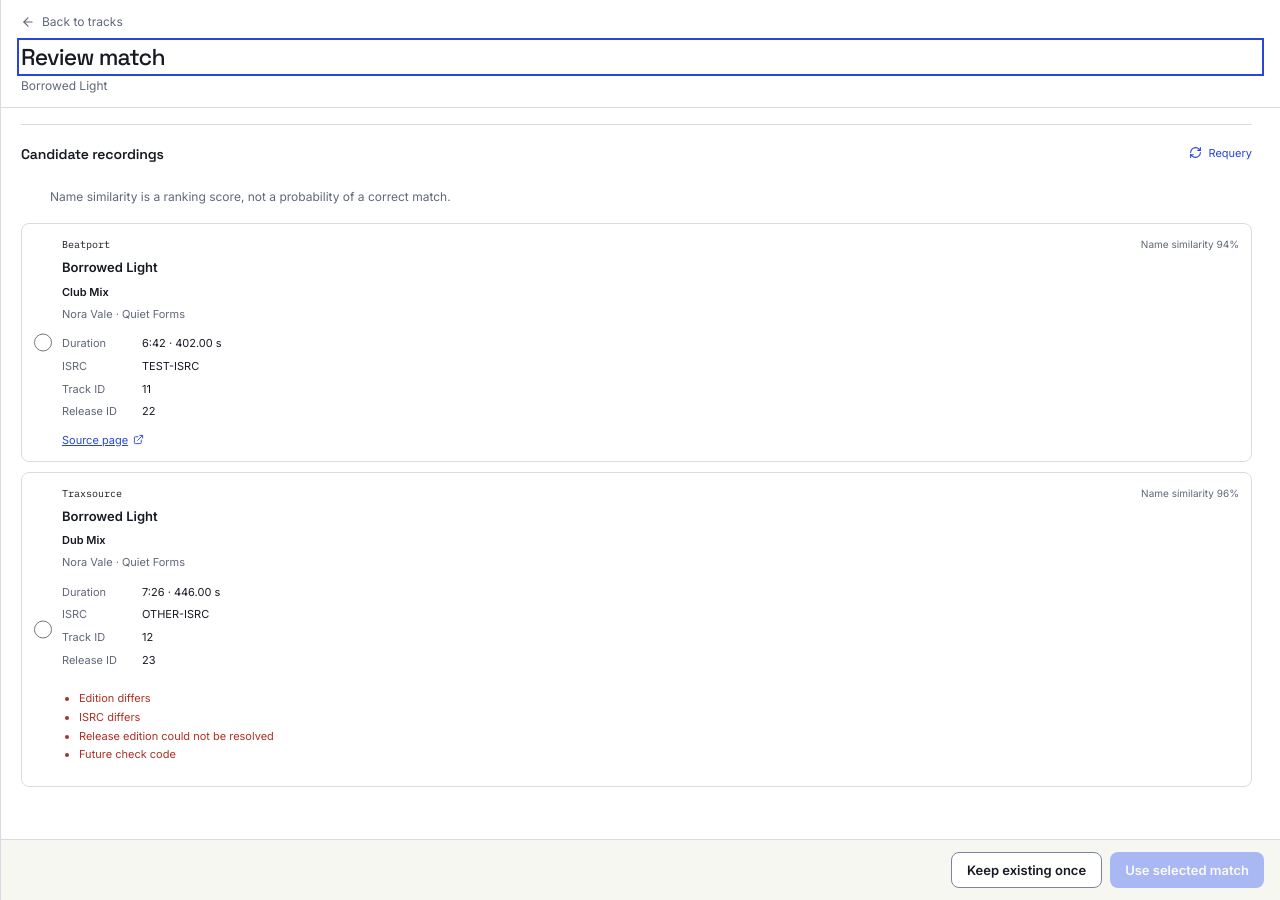
Scenario: match review evidence and decisions › shows conflicts and providers in plain words, with a readable fallback for codes it does not know
The image size is (1280, 900).
(page scrolled)
Step 1. Click the radio button with aria-label "Traxsource · Borrowed Light · Dub Mix" → (43,629), box [34,489,52,770]
(page scrolled)
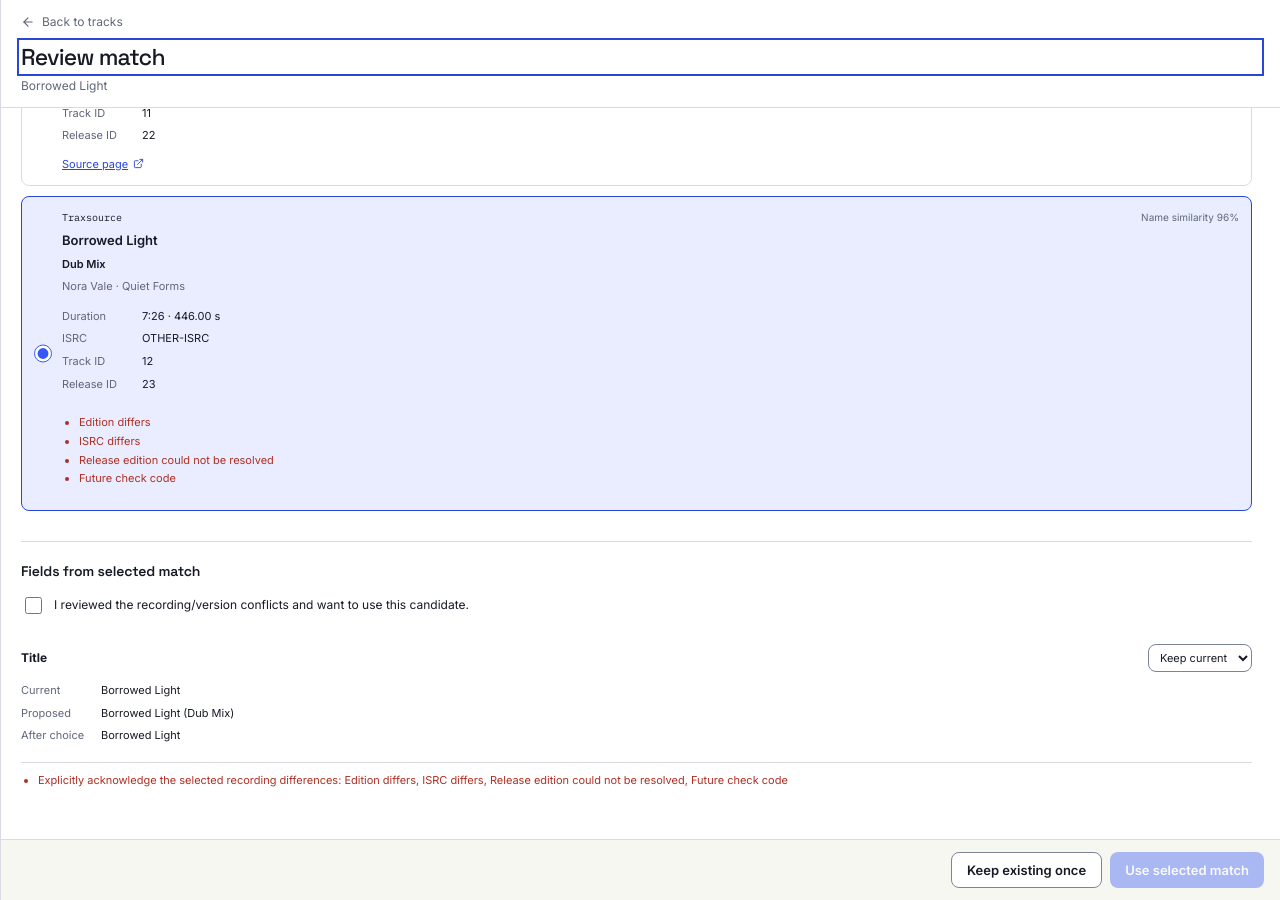
Check: the message shows "Explicitly acknowledge the selected recording differences: Edition differs, ISRC differs, Release edition could not be resolved, Future check code", box [38,773,788,787]
